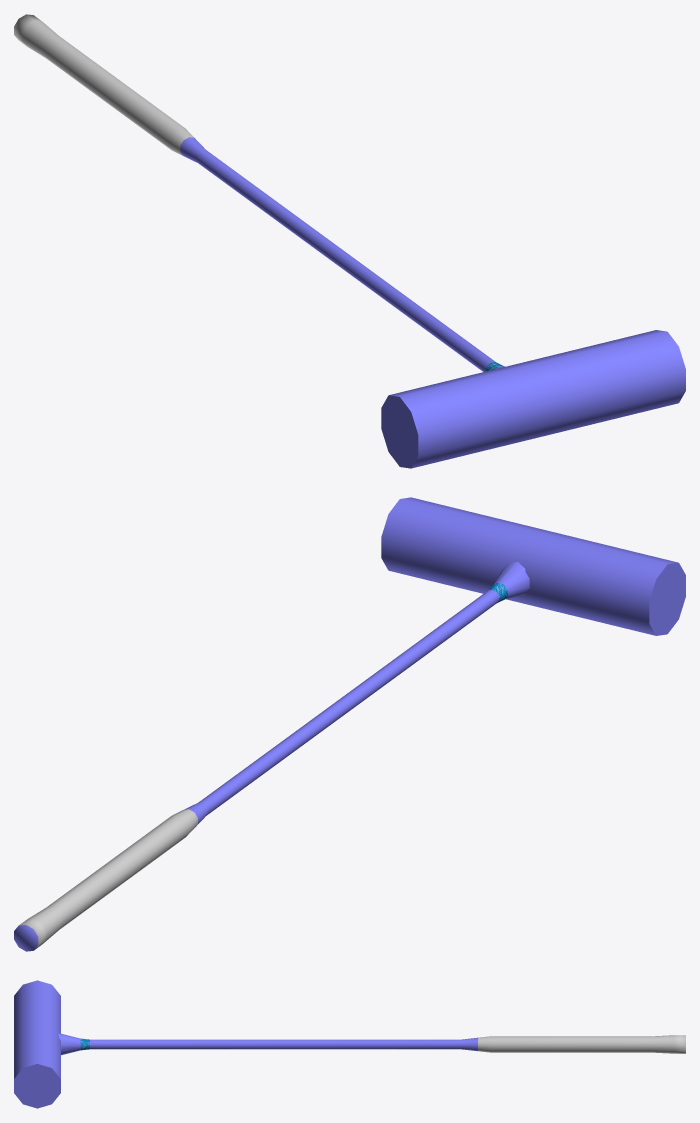
Rendered from Hammer.fbx.
3 views of the same model, one above another, from view 1: azimuth 30°, elevation 25°; view 2: azimuth 150°, elevation 25°; view 3: azimuth 270°, elevation 25° (orthographic). The views are drawn at different scales.
Visible parts, largest first — view 1: Cylinder, Cylinder__1_; view 2: Cylinder, Cylinder__1_; view 3: Cylinder__1_, Cylinder.
Boxes of the visible parts, x1,y1,x2,y2 form: Cylinder: (381, 330, 685, 468); Cylinder__1_: (14, 14, 504, 371); Cylinder: (381, 497, 685, 635); Cylinder__1_: (14, 561, 529, 951); Cylinder__1_: (58, 1033, 685, 1055); Cylinder: (14, 980, 60, 1108).
Bounding box in the file's own units: 80 × 20 × 272.
